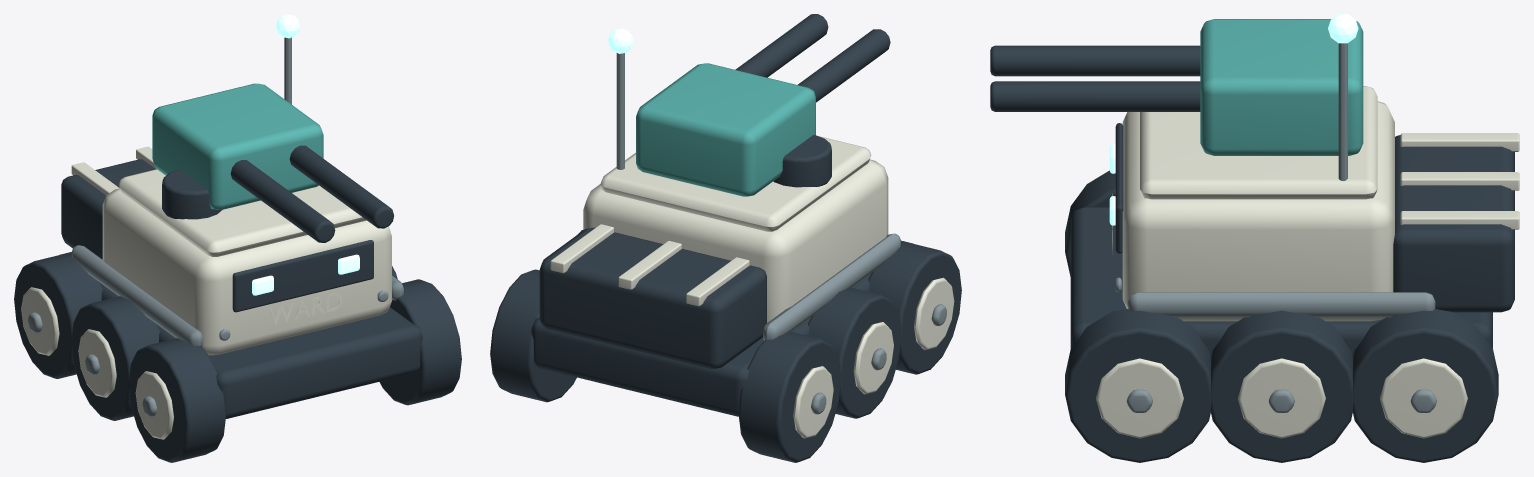
The model's file is guardian.glb.
3 renders of one model, left to right at view 1: azimuth 30°, elevation 25°; view 2: azimuth 150°, elevation 25°; view 3: azimuth 270°, elevation 25°, orthographic. The views are drawn at different scales.
Visible parts, largest first — view 1: Suspension chassis, Armored body, Anim_Turret, Hub bolt, Anim_Barrel_0.22, Anim_Barrel_-0.22, Anim_Wheel_-0.88_-0.74, Anim_Wheel_-0.88_0, Anim_Wheel_-0.88_0.74, Optical sensor; view 2: Suspension chassis, Armored body, Anim_Turret, Hub bolt, Anim_Barrel_-0.22, Anim_Barrel_0.22, Anim_Wheel_-0.88_0.74, Anim_Wheel_-0.88_-0.74, Anim_Wheel_-0.88_0, Optical sensor; view 3: Suspension chassis, Armored body, Anim_Turret, Hub bolt, Anim_Barrel_-0.22, Anim_Barrel_0.22, Anim_Wheel_0.88_0.74, Anim_Wheel_0.88_-0.74, Anim_Wheel_0.88_0, Optical sensor.
Boxes of the visible parts, box(x1,y1,x2,y2) form: Suspension chassis: box(14, 159, 461, 462); Armored body: box(71, 146, 391, 355); Anim_Turret: box(152, 83, 323, 209); Hub bolt: box(28, 37, 403, 416); Anim_Barrel_0.22: box(289, 145, 393, 228); Anim_Barrel_-0.22: box(230, 160, 335, 242); Anim_Wheel_-0.88_-0.74: box(135, 371, 173, 439); Anim_Wheel_-0.88_0: box(78, 329, 116, 397); Anim_Wheel_-0.88_0.74: box(21, 287, 59, 355); Optical sensor: box(252, 14, 359, 295); Suspension chassis: box(490, 135, 961, 462); Armored body: box(550, 136, 888, 322); Anim_Turret: box(636, 63, 815, 196); Hub bolt: box(616, 53, 946, 414); Anim_Barrel_-0.22: box(798, 29, 890, 102); Anim_Barrel_0.22: box(735, 14, 828, 77); Anim_Wheel_-0.88_0.74: box(793, 366, 833, 438); Anim_Wheel_-0.88_-0.74: box(914, 277, 954, 349); Anim_Wheel_-0.88_0: box(853, 322, 893, 394); Optical sensor: box(608, 28, 633, 53); Suspension chassis: box(1065, 123, 1514, 462); Armored body: box(1112, 86, 1519, 321); Anim_Turret: box(1200, 19, 1363, 155); Hub bolt: box(1115, 43, 1436, 412); Anim_Barrel_-0.22: box(990, 45, 1200, 76); Anim_Barrel_0.22: box(990, 81, 1200, 111); Anim_Wheel_0.88_0.74: box(1379, 358, 1467, 438); Anim_Wheel_0.88_-0.74: box(1096, 358, 1183, 438); Anim_Wheel_0.88_0: box(1237, 358, 1325, 438); Optical sensor: box(1109, 14, 1358, 225).
Bounding box in the file's own units: 2.22 × 2.37 × 2.76.
